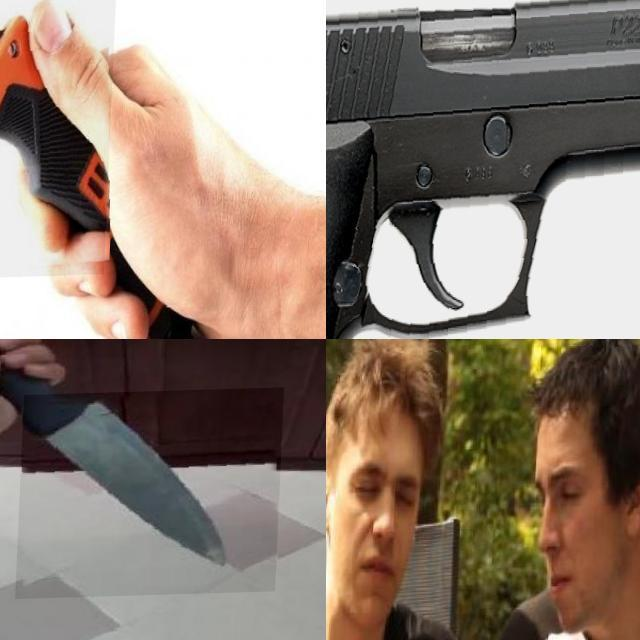-: (19, 390, 286, 600), (0, 0, 180, 284)
gun-knife-thesis - v11 Yolov5 augmented: (326, 0, 640, 339)
